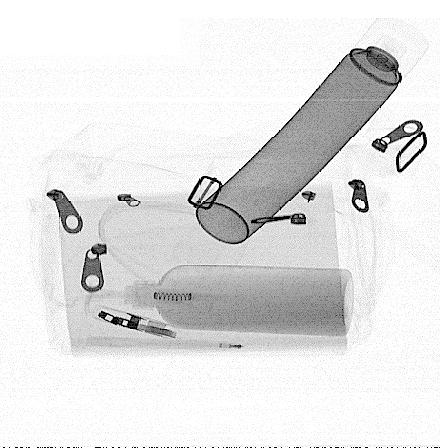Sprayer: (194, 15, 432, 246)
